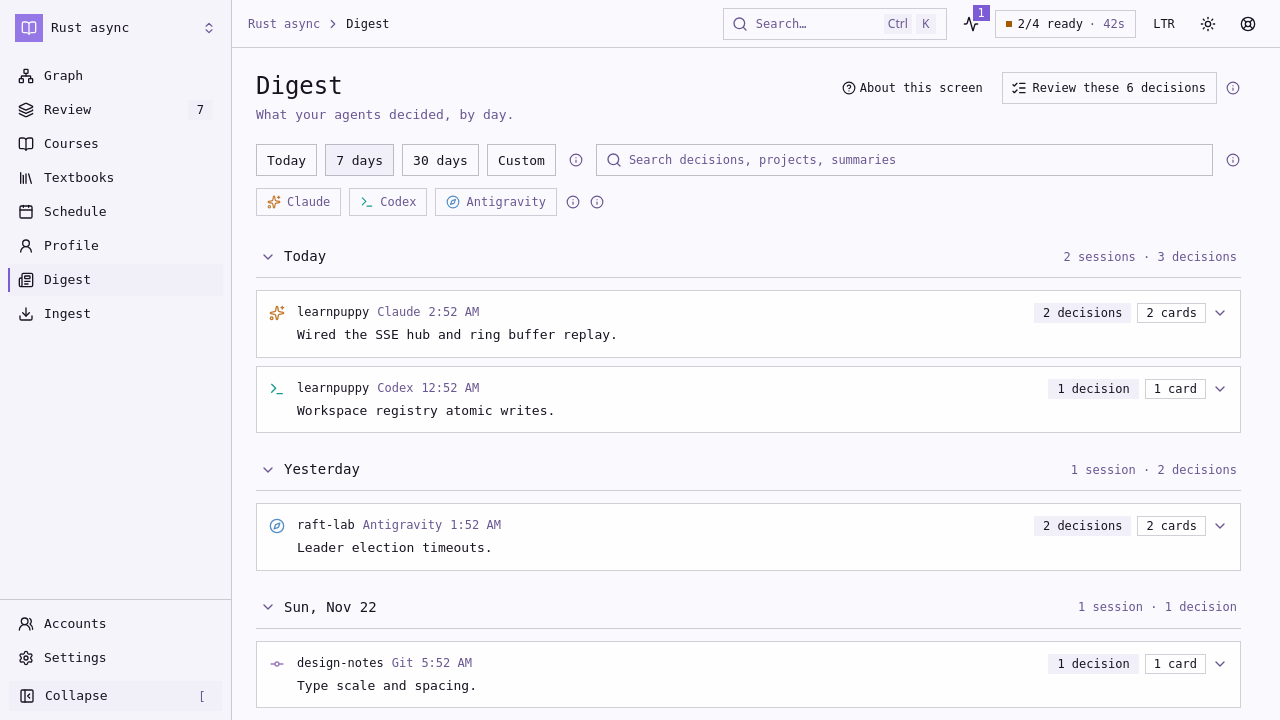
Scenario: Digest states › keeps showing loaded days with a warning when a refresh fails
Expected: the element with test id "digest-days" is shown, [256,236,1241,719]
Changing a filter and changing it back reuses the cached days while the refetch fails.
Click the radio button with test id "digest-range-30d". click: (440, 160)
box: [402,144,479,176]
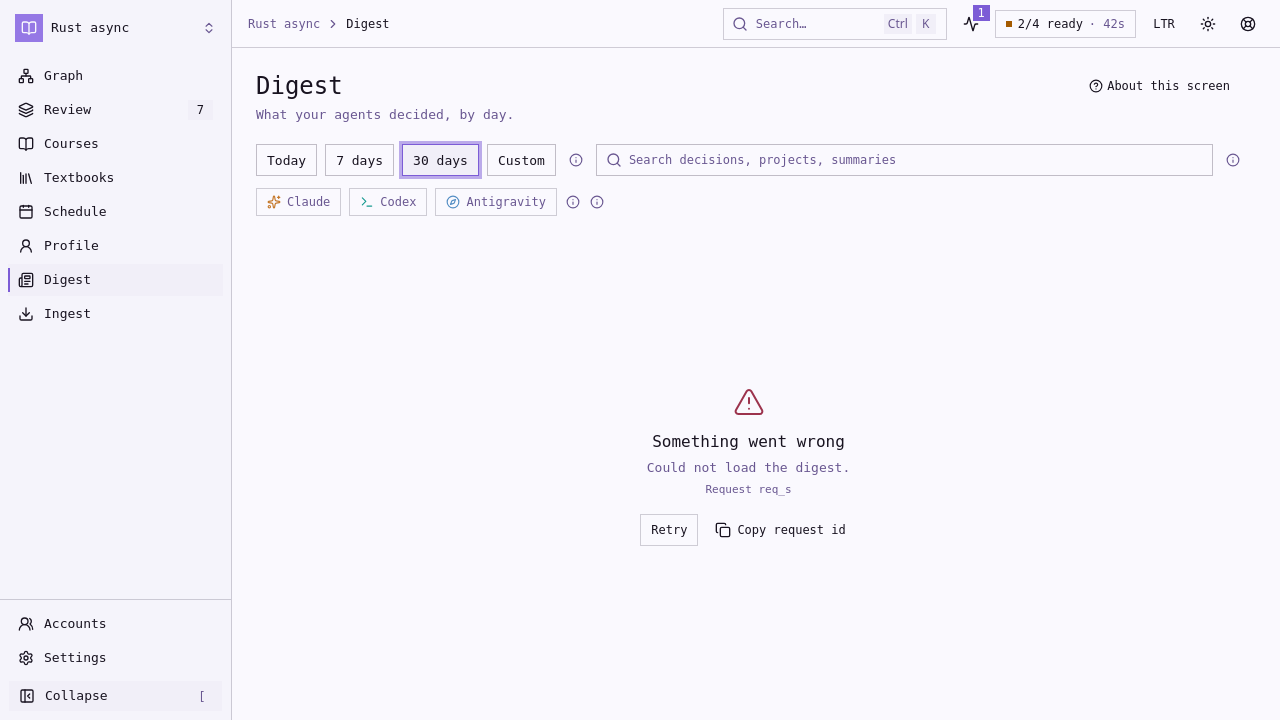
Click the radio button with test id "digest-range-7d". click: (360, 160)
box: [325,144,394,176]
(page scrolled)
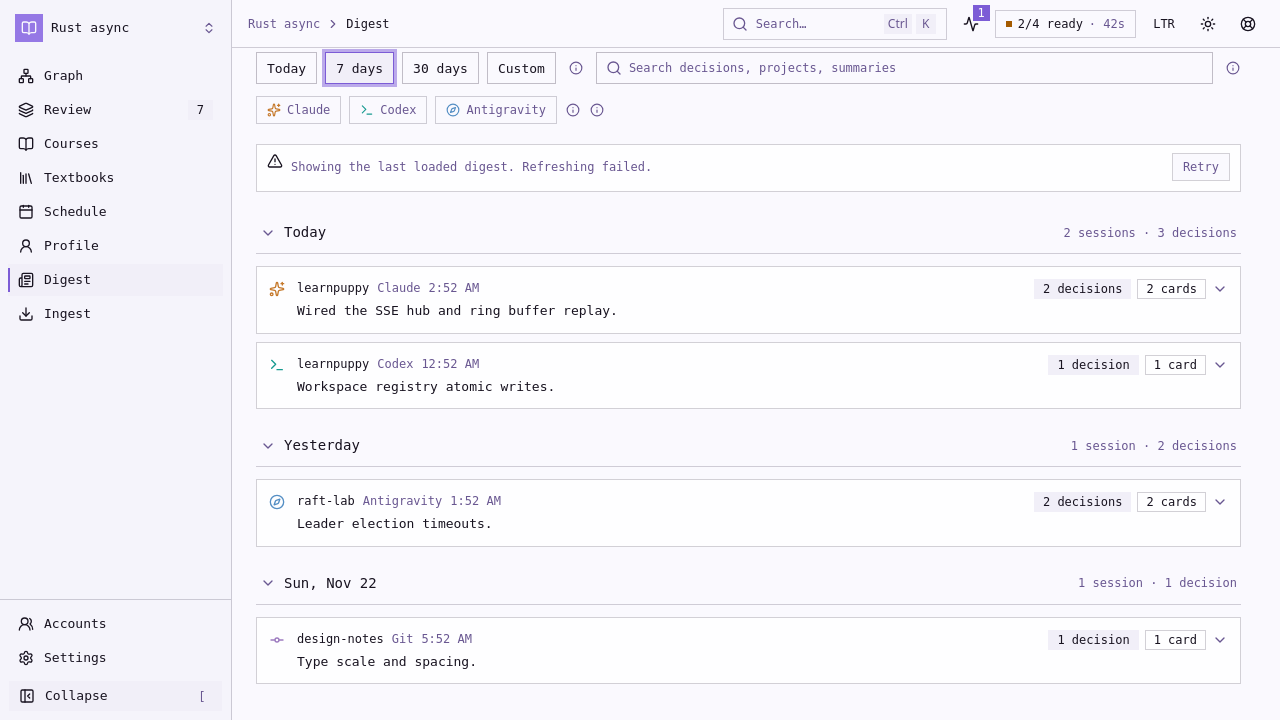
Now the message "Showing the last loaded digest. Refreshing failed. Retry" is shown, box [256,144,1241,192]
Now the element with test id "digest-days" is shown, box [256,212,1241,696]
